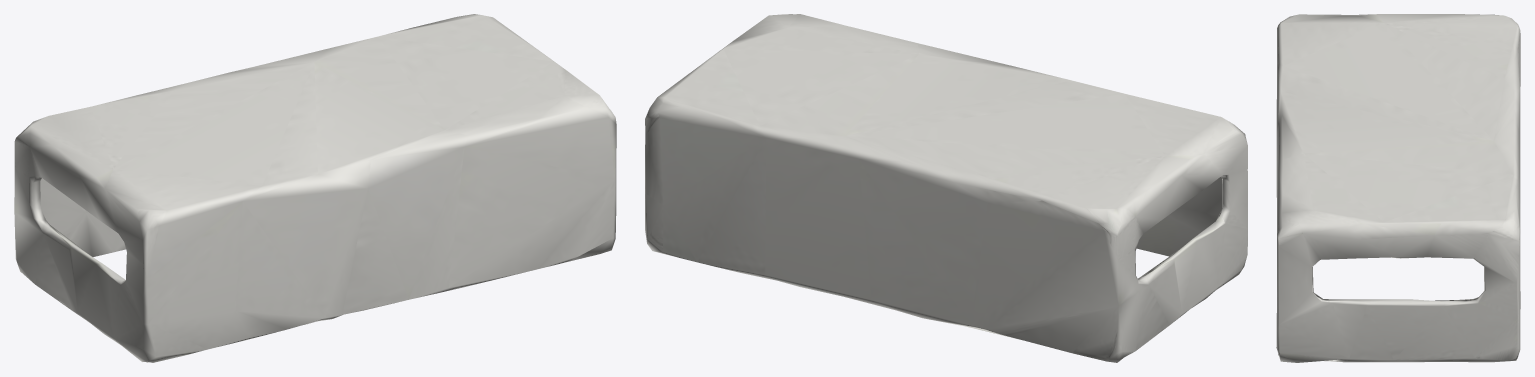
The model's file is pitching_rubber.glb.
The picture shows the model from 3 angles, left to right: view 1: azimuth 30°, elevation 25°; view 2: azimuth 150°, elevation 25°; view 3: azimuth 270°, elevation 25°; orthographic projection. The views are drawn at different scales.
Visible parts, largest first — view 1: Bat; view 2: Bat; view 3: Bat.
Boxes of the visible parts, left/top/right/bottom form: Bat: left=14, top=14, right=616, bottom=362; Bat: left=645, top=14, right=1247, bottom=362; Bat: left=1276, top=14, right=1520, bottom=362.
Size of the model in its own units: 1.91 by 0.5792 by 0.9141.
Materials: 1 (1 with a texture image).
